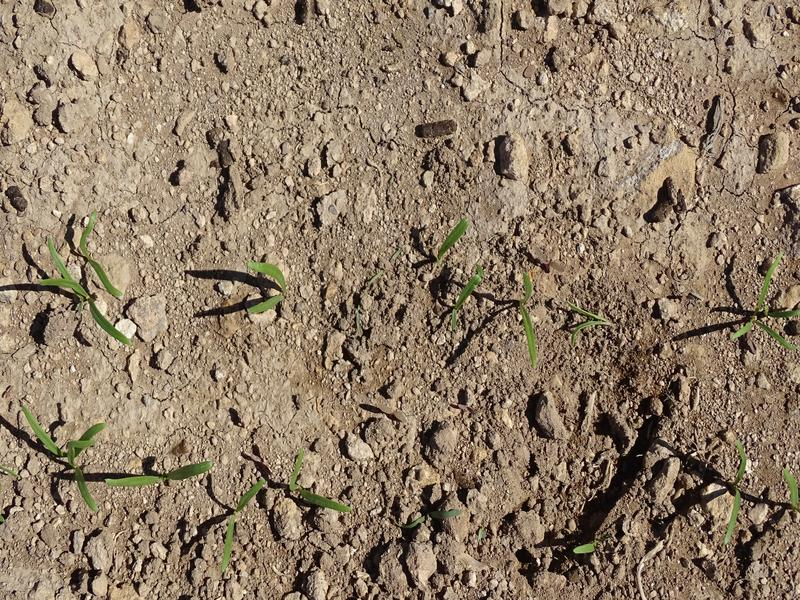Espinaca: (29, 216, 132, 344), (14, 394, 101, 509), (739, 253, 793, 353), (283, 451, 352, 517), (719, 437, 752, 540), (558, 291, 617, 343), (219, 484, 252, 572), (238, 257, 288, 315), (102, 465, 208, 492), (514, 273, 540, 358), (448, 272, 483, 330), (433, 212, 470, 261)
